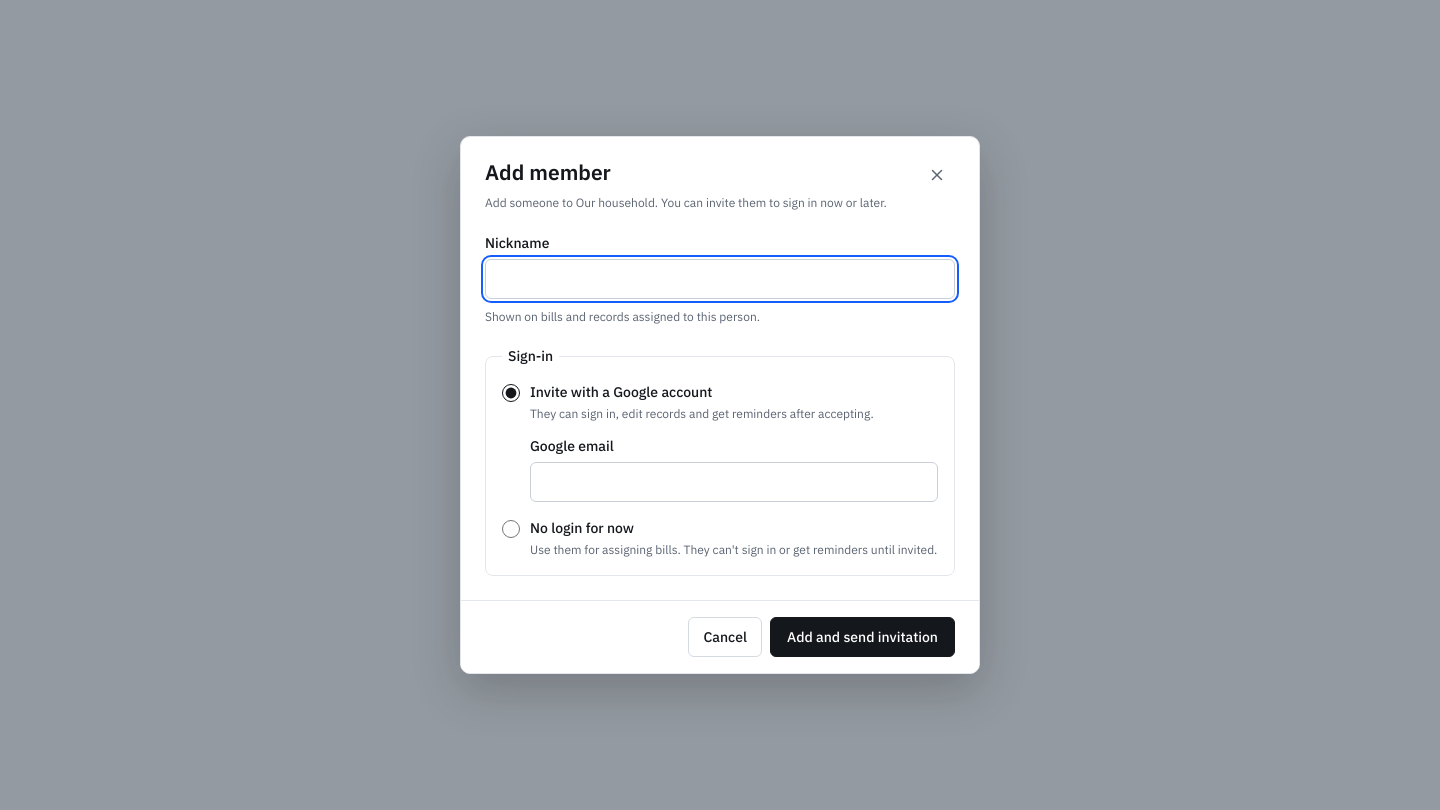
Test: Finance editor validation and draft protection › adds a member without an invitation after selecting no login and retains the email draft when switching back
Type "Jamie" into the field with id "edit-nickname" at (720, 278), box [485, 258, 955, 298]
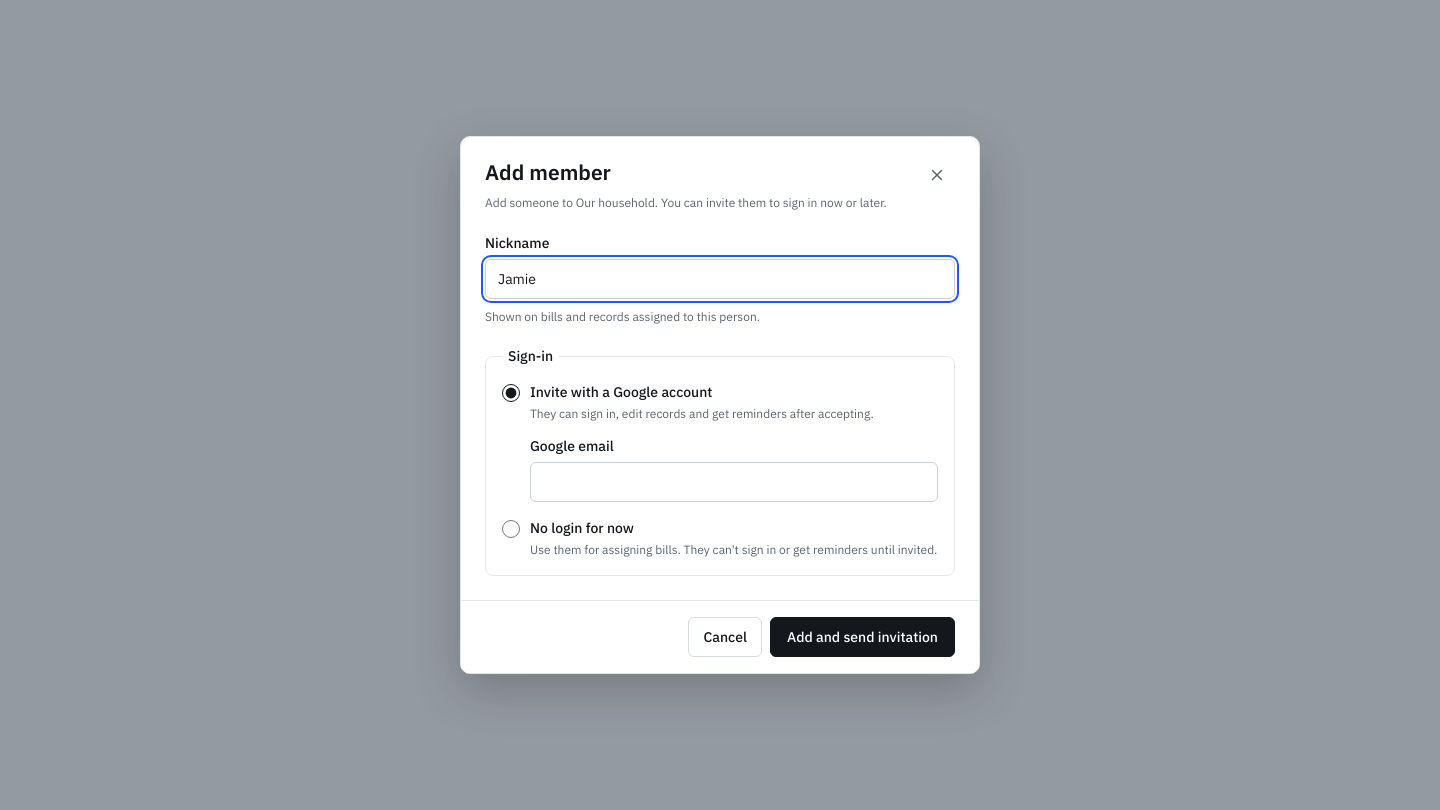
Type "unfinished email" into the field with id "edit-email" at (734, 482), box [530, 462, 938, 502]
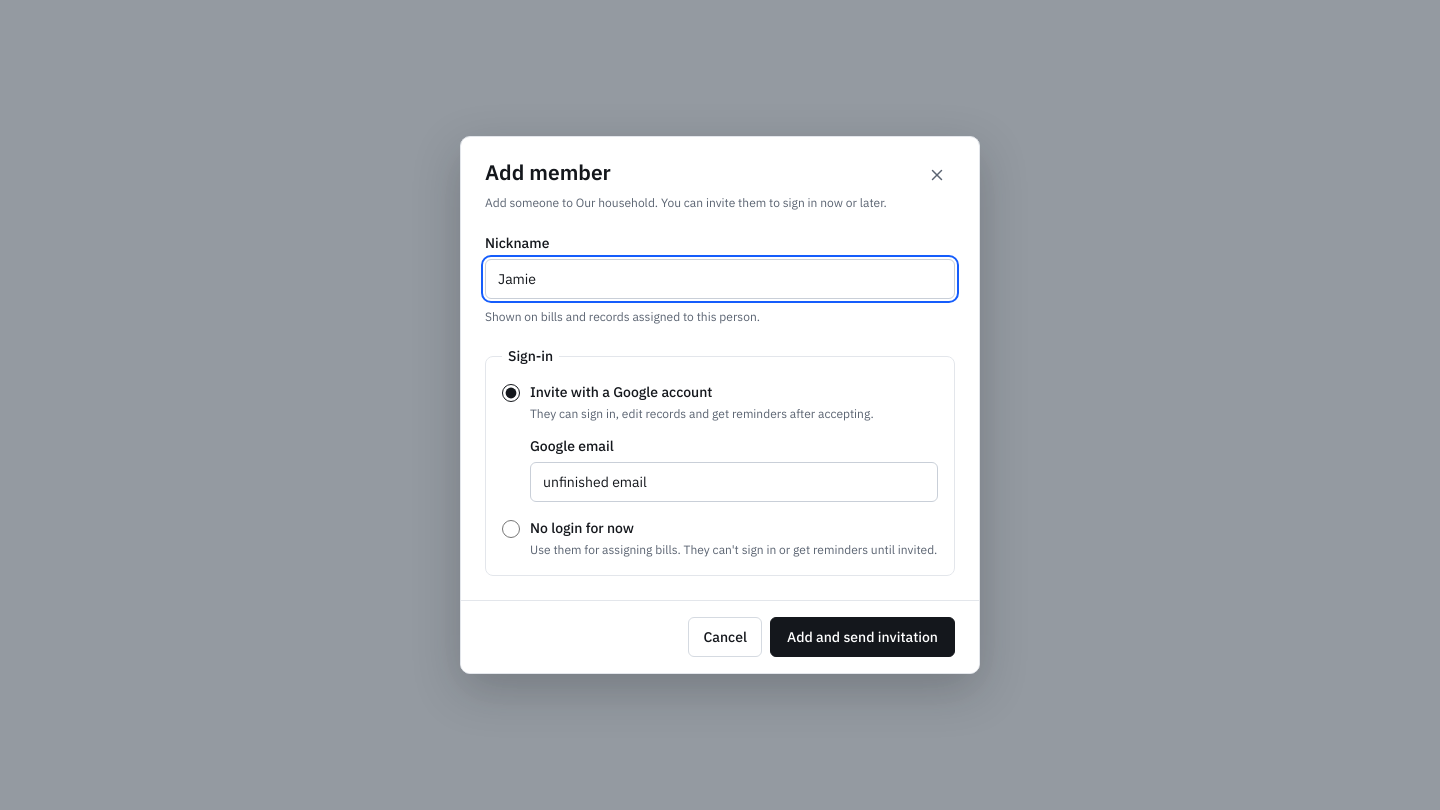
Click the radio button with id "member-no-login" at (511, 528), box [502, 520, 520, 538]
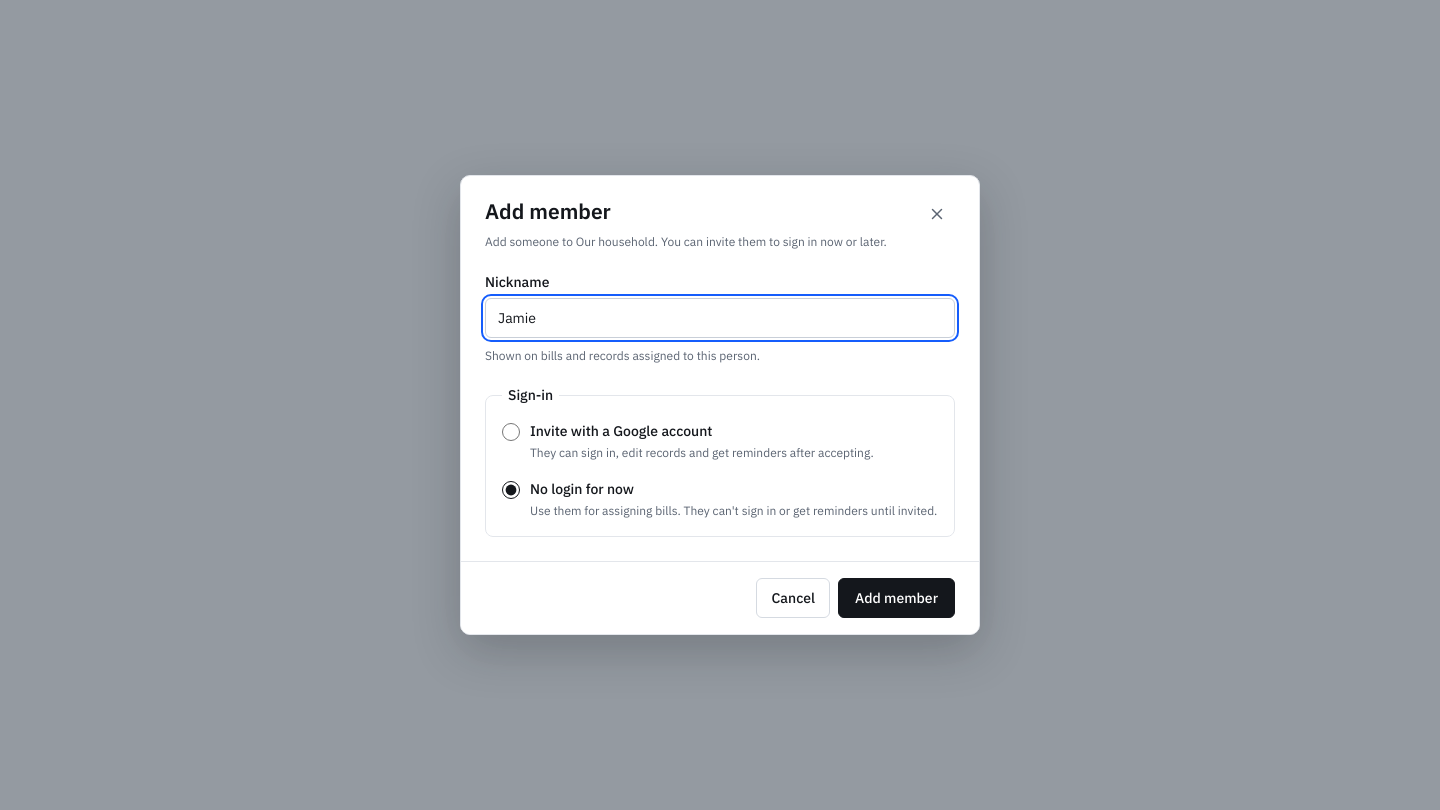
Check: the text "Add and send invitation" is gone
Submit the form, box [461, 272, 979, 634]
Click the radio button with id "member-google" at (511, 432), box [502, 423, 520, 441]
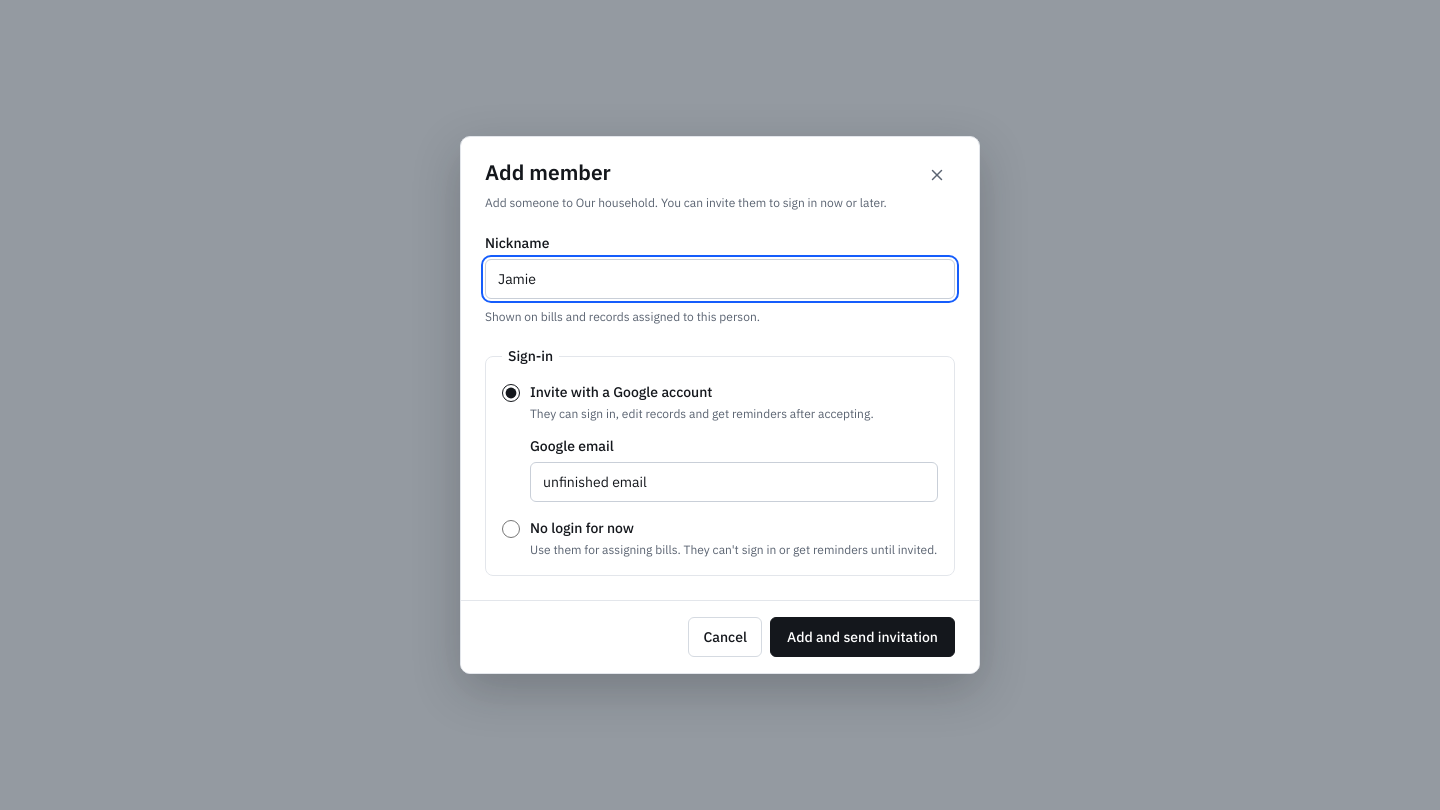
Check: the field with id "edit-email" holds "unfinished email", box [530, 462, 938, 502]
